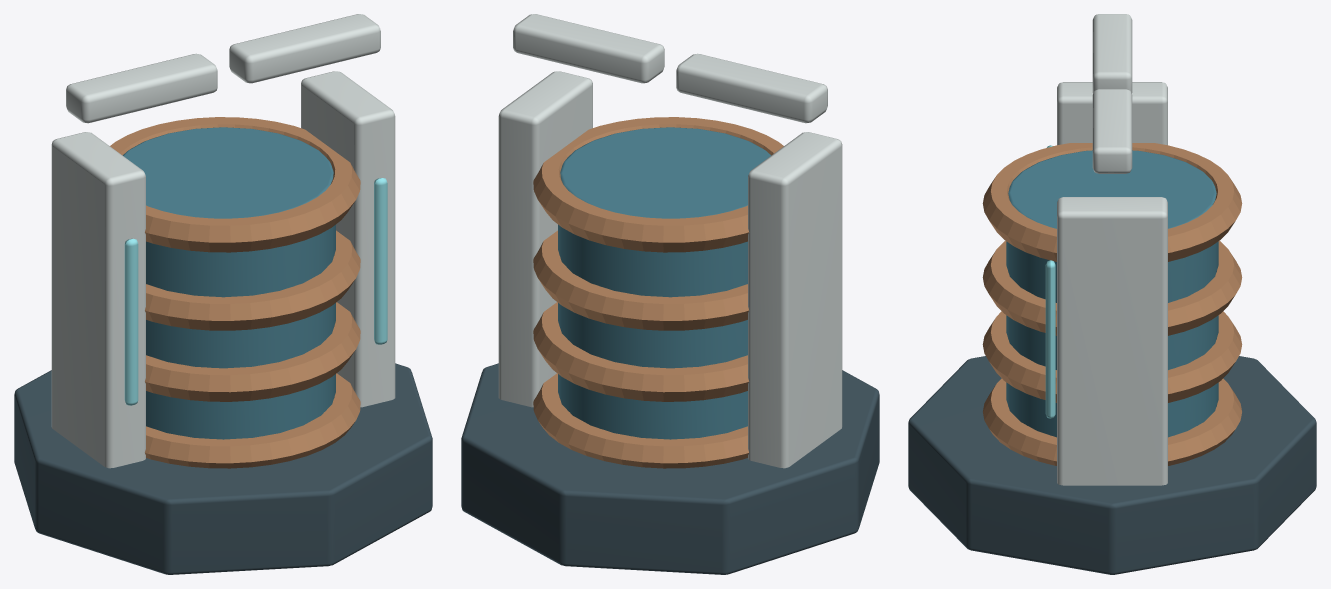
File: GroundRelay115.fbx
3 views of the same model, side by side, from view 1: azimuth 30°, elevation 25°; view 2: azimuth 150°, elevation 25°; view 3: azimuth 270°, elevation 25° (orthographic). The views are drawn at different scales.
Parts seen in each view (by area): view 1: Octagonal relay foundation, Shield coil, Armoured relay pillar, Armoured relay pillar.001, Induction collar.003, Induction collar.002, Induction collar.001, Induction collar, Signal rotor.001, Signal rotor, Status slit, Status slit.001; view 2: Octagonal relay foundation, Shield coil, Armoured relay pillar, Armoured relay pillar.001, Induction collar.003, Induction collar.002, Induction collar.001, Induction collar, Signal rotor.001, Signal rotor; view 3: Octagonal relay foundation, Armoured relay pillar.001, Shield coil, Induction collar.003, Induction collar.002, Induction collar.001, Induction collar, Armoured relay pillar, Signal rotor.001, Signal rotor, Status slit.001.
Boxes of the visible parts, <box> form: Octagonal relay foundation: <box>14,363,432,574</box>; Shield coil: <box>123,127,335,439</box>; Armoured relay pillar: <box>51,132,145,468</box>; Armoured relay pillar.001: <box>301,71,395,407</box>; Induction collar.003: <box>110,117,360,252</box>; Induction collar.002: <box>145,230,360,330</box>; Induction collar.001: <box>145,302,360,401</box>; Induction collar: <box>145,373,360,468</box>; Signal rotor.001: <box>229,14,380,83</box>; Signal rotor: <box>66,53,217,123</box>; Status slit: <box>124,238,138,405</box>; Status slit.001: <box>374,178,387,344</box>; Octagonal relay foundation: <box>461,363,879,574</box>; Shield coil: <box>558,127,770,439</box>; Armoured relay pillar: <box>748,132,842,468</box>; Armoured relay pillar.001: <box>498,71,592,407</box>; Induction collar.003: <box>533,117,783,252</box>; Induction collar.002: <box>533,230,748,330</box>; Induction collar.001: <box>533,302,748,401</box>; Induction collar: <box>533,373,748,468</box>; Signal rotor.001: <box>513,14,664,83</box>; Signal rotor: <box>676,53,827,123</box>; Octagonal relay foundation: <box>908,356,1316,574</box>; Armoured relay pillar.001: <box>1057,197,1167,485</box>; Shield coil: <box>1006,150,1218,437</box>; Induction collar.003: <box>982,143,1242,261</box>; Induction collar.002: <box>982,241,1242,335</box>; Induction collar.001: <box>982,311,1242,402</box>; Induction collar: <box>983,378,1241,465</box>; Armoured relay pillar: <box>1057,82,1167,145</box>; Signal rotor.001: <box>1092,89,1132,173</box>; Signal rotor: <box>1092,14,1132,93</box>; Status slit.001: <box>1045,260,1055,418</box>.
Size of the model in its own units: 165 by 183 by 165.
